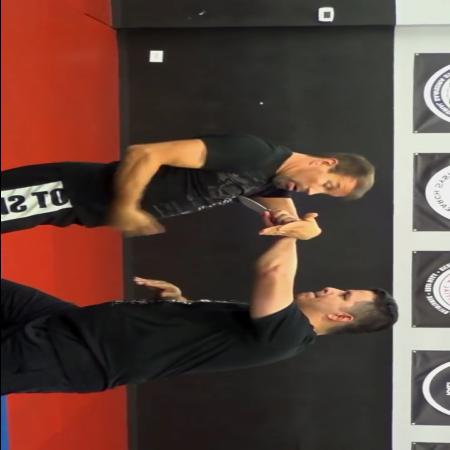long weapon: (233, 195, 297, 230)
